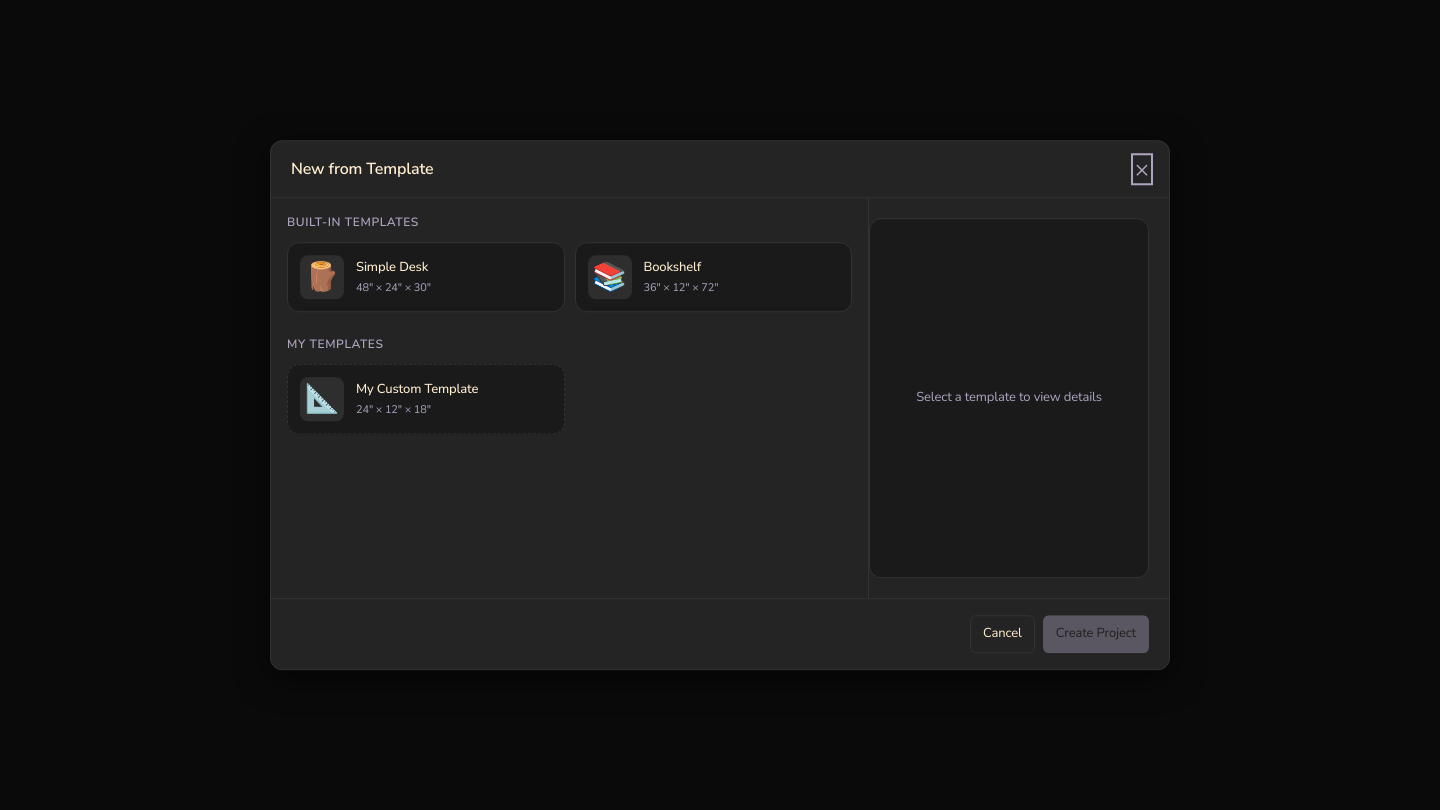
Test case: TemplateBrowserModal › user templates › shows Custom badge for user templates
Click the text "My Custom Template" at (417, 389), box [356,380,478,398]
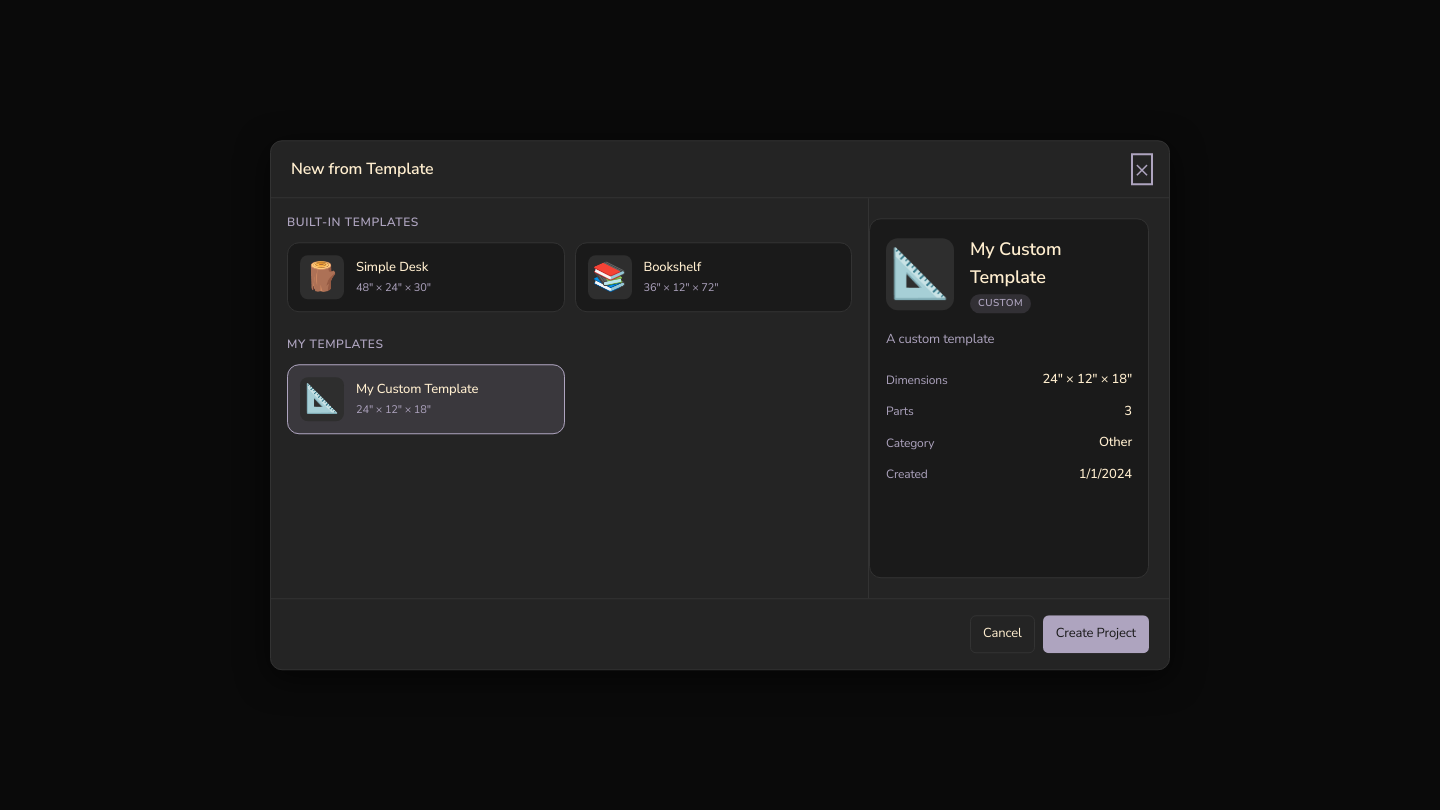
Result: the text "Custom" is shown at [970,294,1031,313]
